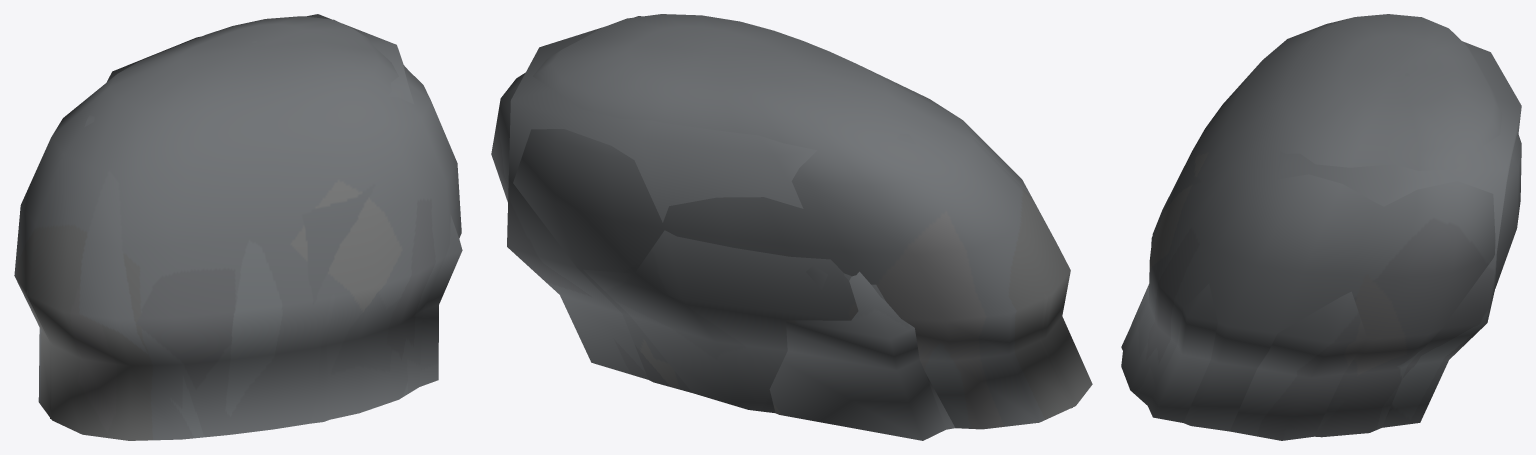
File: roundsmall.gltf
3 renders of one model, left to right at view 1: azimuth 30°, elevation 25°; view 2: azimuth 150°, elevation 25°; view 3: azimuth 270°, elevation 25°, orthographic. The views are drawn at different scales.
Visible parts, largest first — view 1: lod0, shadow; view 2: lod0, shadow; view 3: lod0, shadow.
Boxes of the visible parts, left/top/right/bottom form: lod0: left=14, top=16, right=461, bottom=440; shadow: left=26, top=14, right=462, bottom=423; lod0: left=491, top=14, right=1092, bottom=429; shadow: left=507, top=16, right=1072, bottom=440; lod0: left=1121, top=14, right=1521, bottom=437; shadow: left=1121, top=41, right=1521, bottom=440.
Size of what is drawn, in the model's own units: 0.84 by 0.5212 by 0.62.
Materials: 1 (1 with a texture image).
